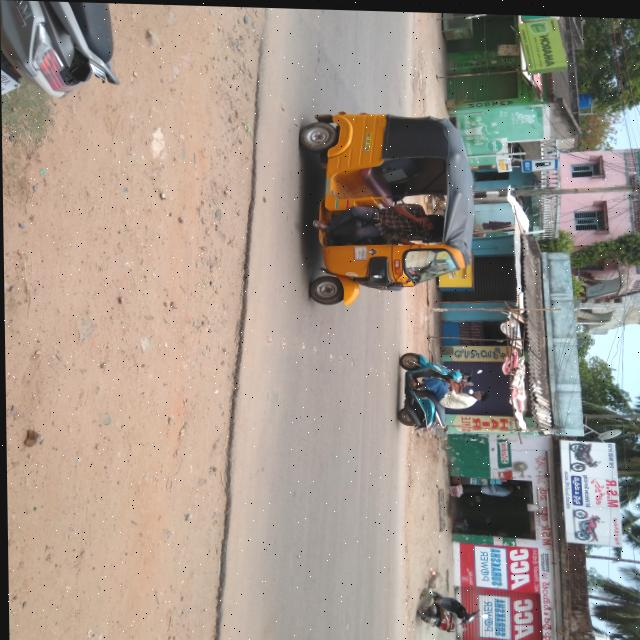plate: (364, 129, 371, 150)
